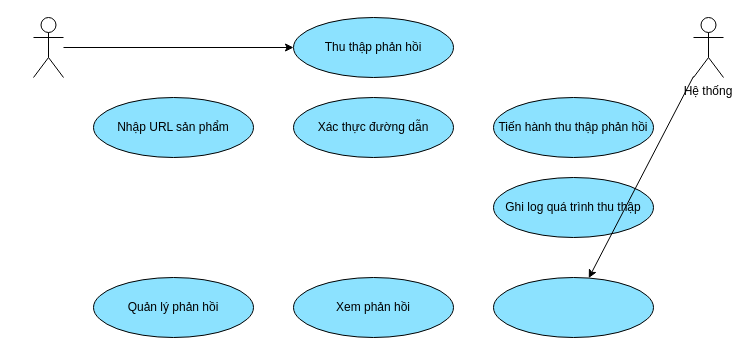
Image size: 751x355. Some labels were removed from this diagram. Here are the shapes that lost their labels. From the top down, the centre of each, then its label:
At point 48,47: "Người dùng".
At point 573,307: "Lưu phản hồi".
